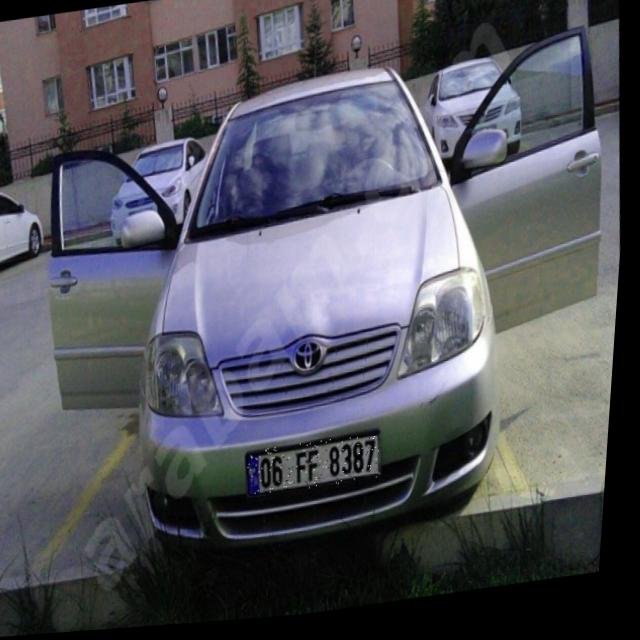license_plate: (250, 438, 389, 501)
